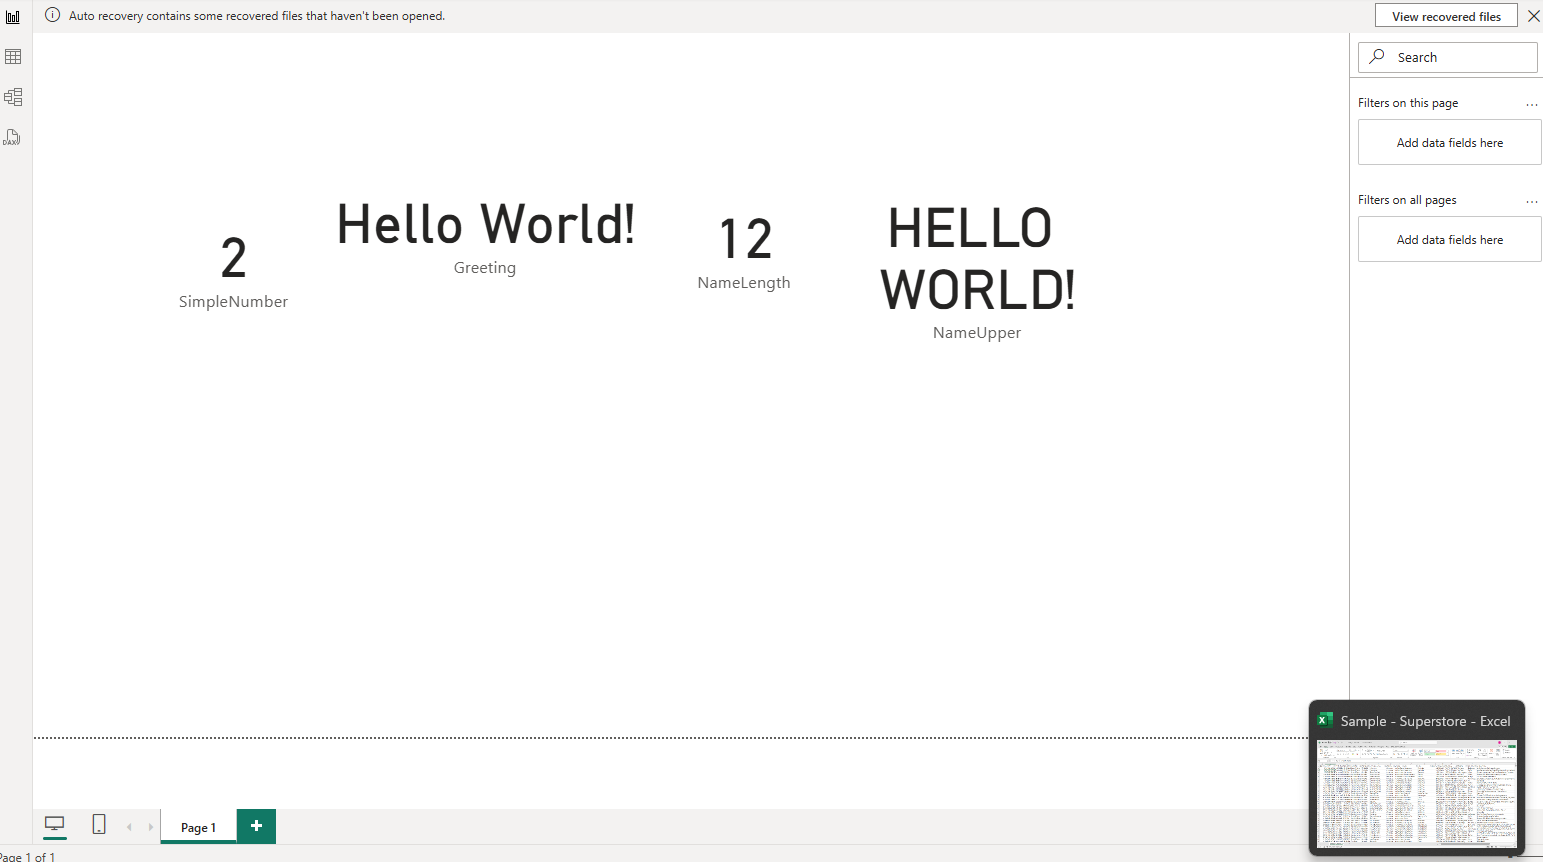

This screenshot's page, from the dashboard's own definition file:
{"tool":"powerbi","page":{"name":"Page 1","canvas":[1280,720],"ordinal":0},"visuals":[{"type":"card","fields":{"Values":["Key Measures.SimpleNumber"]},"box":[135.2,196.5,119.6,121.6],"z":0},{"type":"card","fields":{"Values":["Key Measures.Greeting"]},"box":[271.4,153.7,336.5,141],"z":1000},{"type":"card","fields":{"Values":["Key Measures.NameLength"]},"box":[607.9,181.9,167.3,112.8],"z":2000},{"type":"card","fields":{"Values":["Key Measures.NameUpper"]},"box":[768.4,169.2,299.6,176],"z":3000}]}

Visuals, with their boxes on the page's 1280x720 design canvas (x1, y1, x2, y2). These are canvas units, not pixel positions in the 1543x862 screenshot, which may show the page scaled, cropped or inside an application window:
card - Key Measures.SimpleNumber: {"x1": 135, "y1": 196, "x2": 255, "y2": 318}
card - Key Measures.Greeting: {"x1": 271, "y1": 154, "x2": 608, "y2": 295}
card - Key Measures.NameLength: {"x1": 608, "y1": 182, "x2": 775, "y2": 295}
card - Key Measures.NameUpper: {"x1": 768, "y1": 169, "x2": 1068, "y2": 345}
